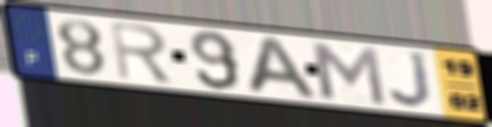8: (53, 16, 109, 78)
9: (188, 29, 243, 93)
A: (243, 35, 322, 102)
J: (387, 50, 437, 111)
M: (306, 39, 390, 108)
R: (107, 20, 176, 86)
